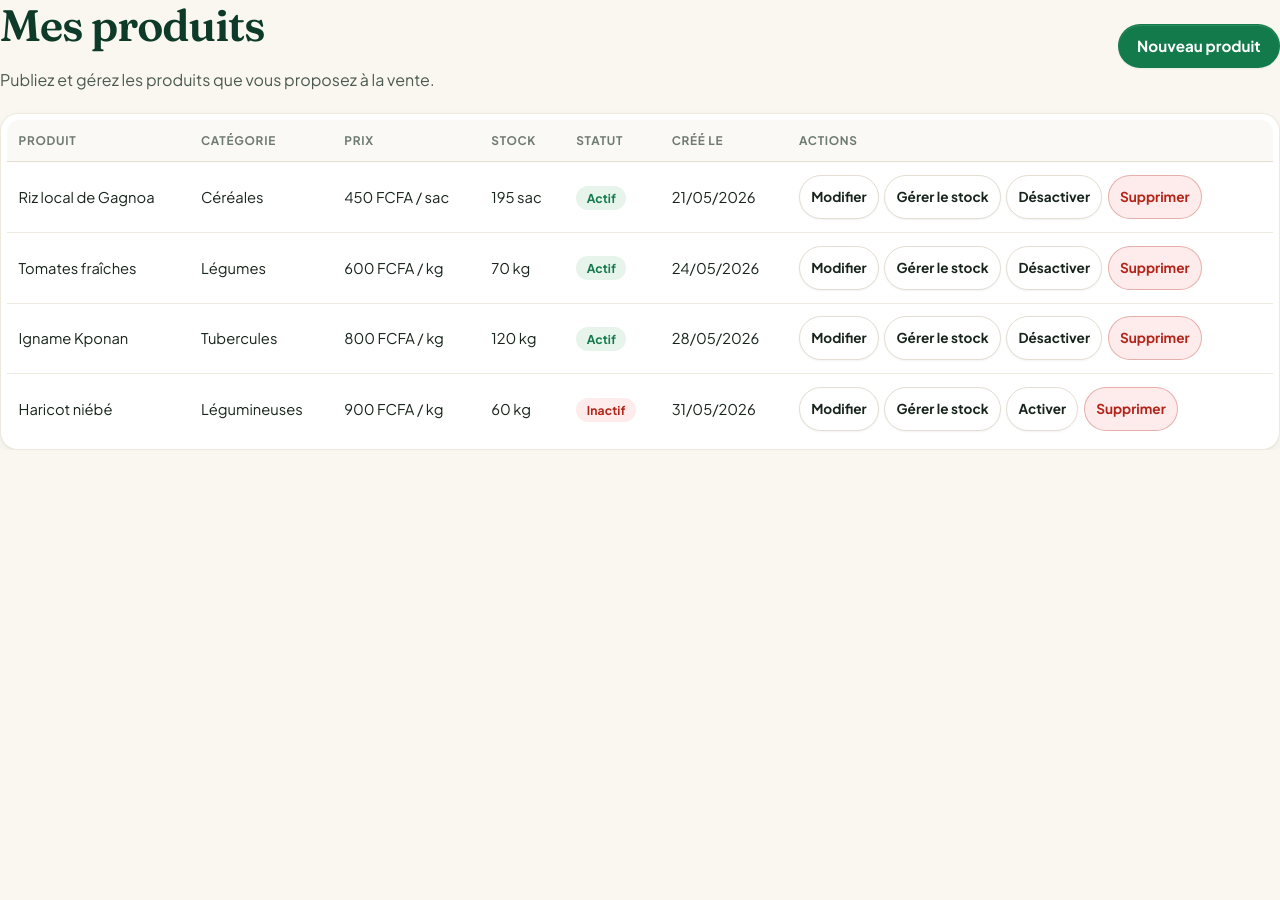
Scenario: ProduitsProducteurComponent (task 5.8) › supprime un produit après confirmation
Click the button "Supprimer" in the row of "Igname Kponan" at (1155, 338), box [1108,316,1202,360]
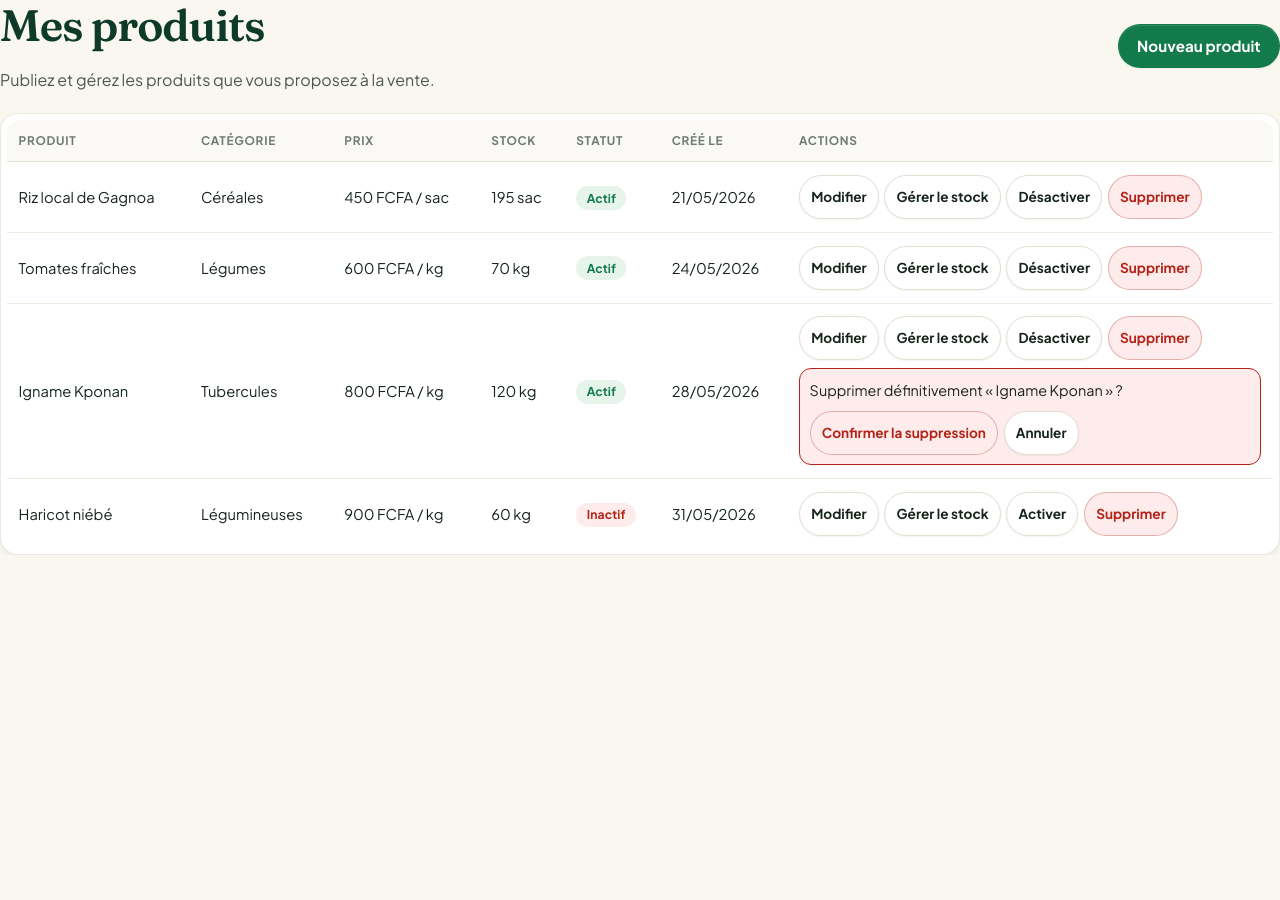
Click the button "Confirmer la suppression" at (904, 433), box [810,411,998,455]
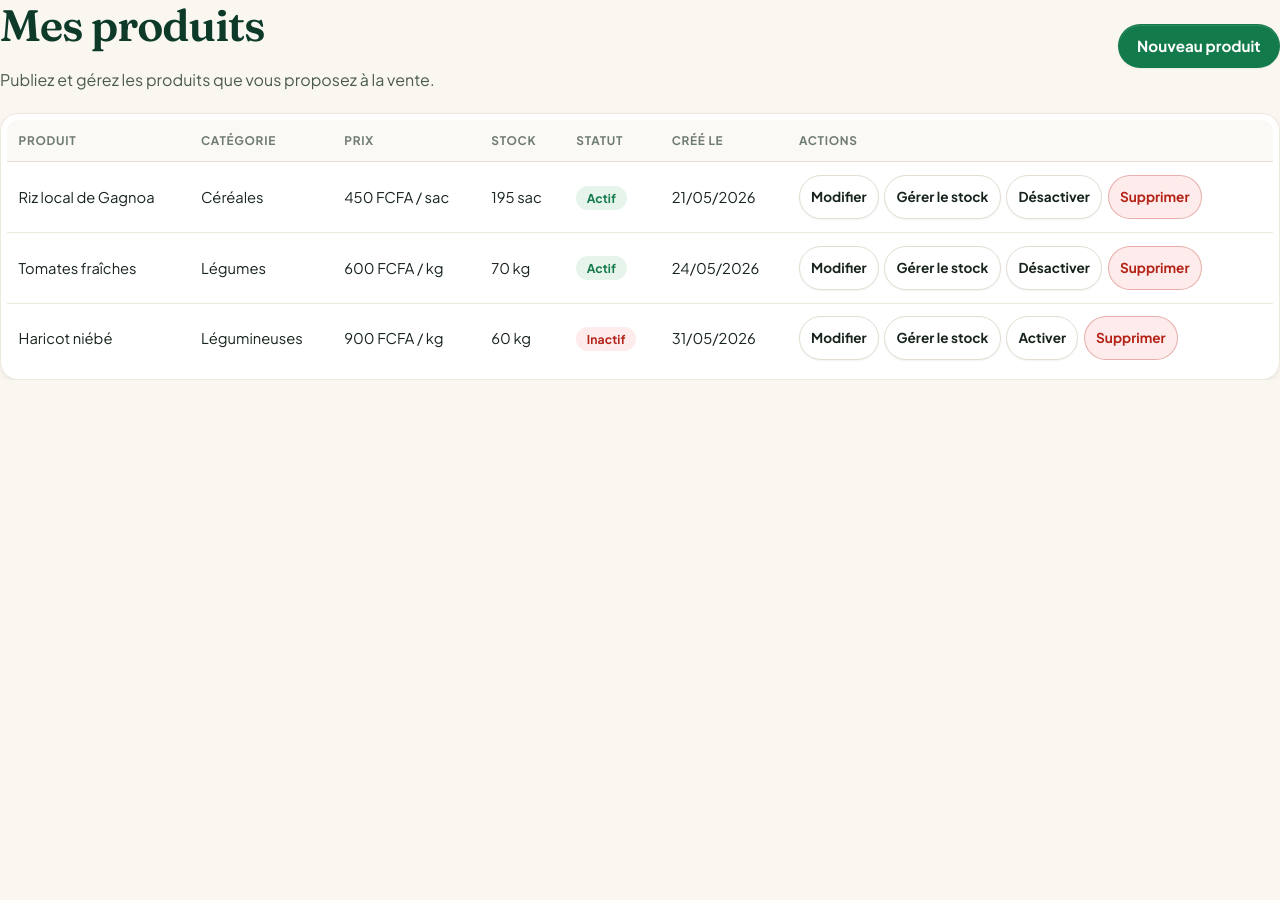
Now the text "Igname Kponan" is gone
